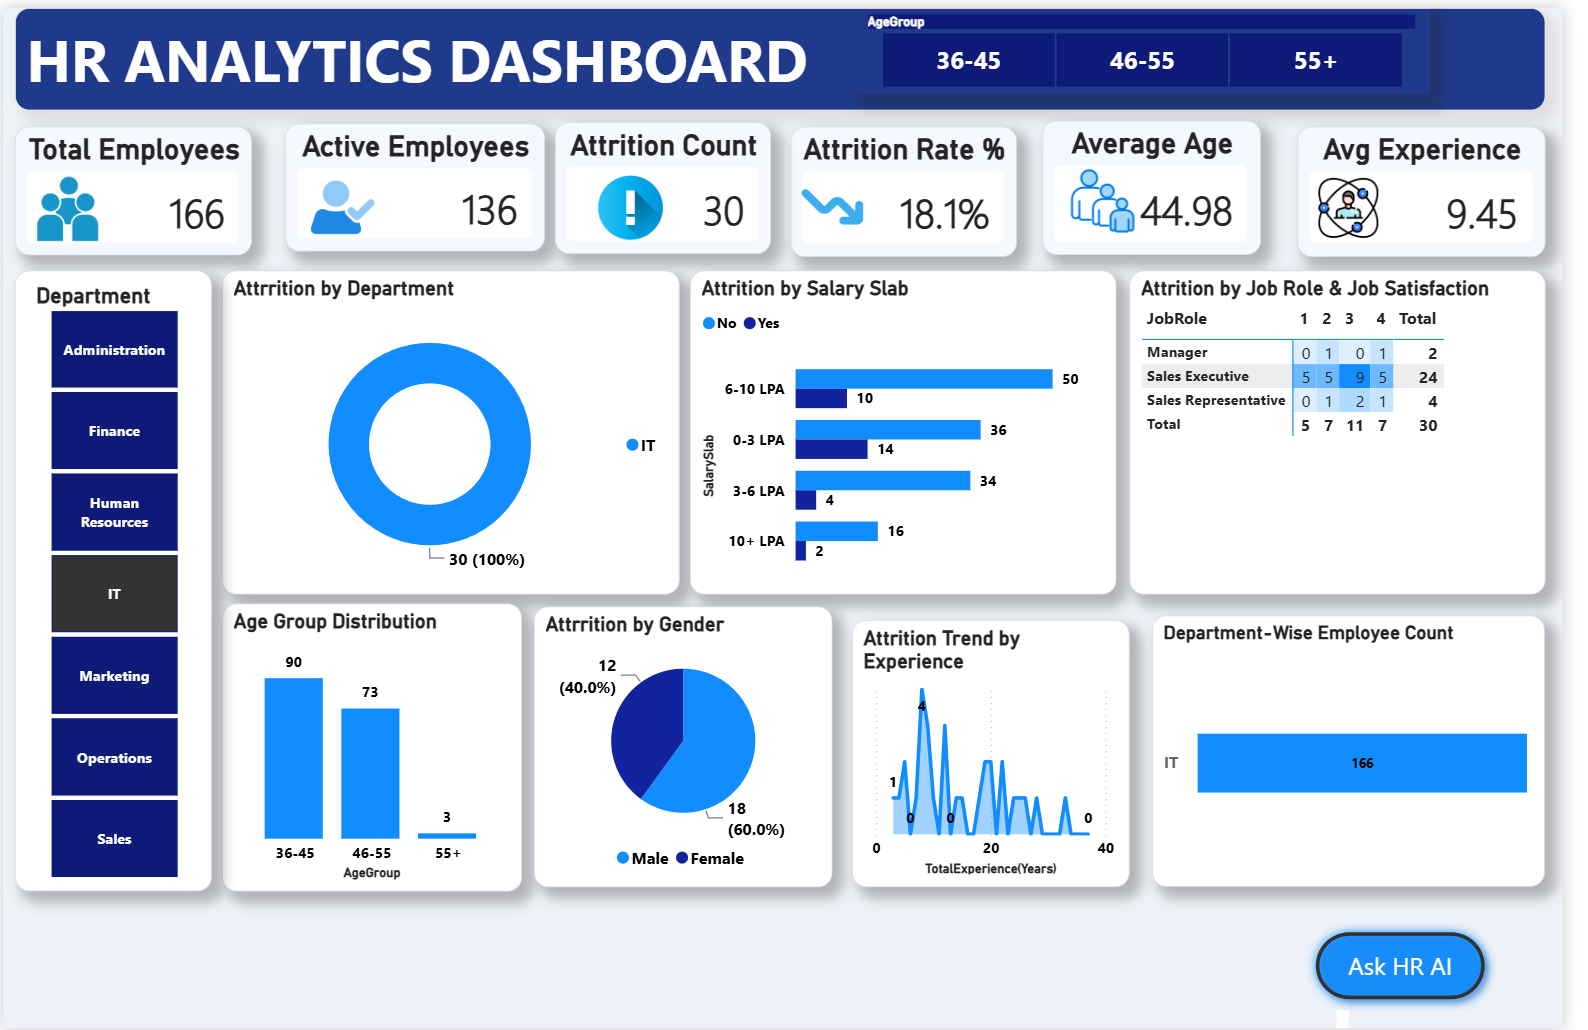

Layout of this report page (visuals, bound fields, positions):
{"tool":"powerbi","page":{"name":"Page 1","canvas":[1300,850],"ordinal":0},"visuals":[{"type":"textbox","box":[10,0,1275,85],"z":0},{"type":"cardVisual","title":"Total Employees","fields":{"Data":["CountNonNull(HR_Analytics-4 (1).EmpID)"]},"box":[10,98.8,197.5,107.5],"z":1000},{"type":"cardVisual","title":"Active Employees","fields":{"Data":["CountNonNull(HR_Analytics-4 (1).EmployeeCount)"]},"box":[235,96.7,216.7,106.7],"z":2000},{"type":"cardVisual","title":"Avg Experience","fields":{"Data":["Avg(HR_Analytics-4 (1).YearsatCompany)"]},"box":[1078.3,98.3,206.7,108.3],"z":3000},{"type":"cardVisual","title":"Average Age","fields":{"Data":["Avg(HR_Analytics-4 (1).Age)"]},"box":[866.7,93.3,181.7,111.7],"z":4000},{"type":"cardVisual","title":"Attrition Rate %","fields":{"Data":["HR_Analytics-4 (1).Attrition Rate %"]},"box":[656.7,98.3,188.3,108.3],"z":5000},{"type":"cardVisual","title":"Attrition Count","fields":{"Data":["Sum(HR_Analytics-4 (1).AttrritionCount)"]},"box":[460,95,180,110],"z":6000},{"type":"image","box":[0,128.6,108.6,77.1],"z":7000},{"type":"image","box":[234.3,134.3,98.6,64.3],"z":8000},{"type":"image","box":[481.7,133.3,83.3,65],"z":9000},{"type":"image","box":[647.5,133.8,87.5,63.8],"z":10000},{"type":"image","box":[873.3,128.3,85,63.3],"z":11000},{"type":"image","box":[1078.3,136.7,85,60],"z":12000},{"type":"donutChart","title":"Attrrition by Department","fields":{"Category":["HR_Analytics-4 (1).Department"],"Y":["Sum(HR_Analytics-4 (1).AttrritionCount)"]},"box":[182.5,218.8,381.2,270],"z":13000},{"type":"clusteredBarChart","title":"Attrition by Salary Slab","fields":{"Category":["HR_Analytics-4 (1).SalarySlab"],"Series":["HR_Analytics-4 (1).Attrition"],"Y":["CountNonNull(HR_Analytics-4 (1).EmpID)"]},"box":[572.5,218.8,355,270],"z":14000},{"type":"pivotTable","title":"Attrition by Job Role & Job Satisfaction","fields":{"Columns":["HR_Analytics-4 (1).JobSatisfaction"],"Rows":["HR_Analytics-4 (1).JobRole"],"Values":["Sum(HR_Analytics-4 (1).AttrritionCount)"]},"box":[938.3,218.3,346.7,270],"z":15000},{"type":"columnChart","title":"Age Group Distribution","fields":{"Category":["HR_Analytics-4 (1).AgeGroup"],"Y":["Sum(HR_Analytics-4 (1).EmployeeCount)"]},"box":[182.5,496.2,250,240],"z":16000},{"type":"pieChart","title":" Attrrition by Gender","fields":{"Category":["HR_Analytics-4 (1).Gender"],"Y":["Sum(HR_Analytics-4 (1).AttrritionCount)"]},"box":[442.5,498.8,248.8,233.8],"z":17000},{"type":"areaChart","title":"Attrition Trend by Experience","fields":{"Category":["HR_Analytics-4 (1).TotalExperience(Years)"],"Y":["Sum(HR_Analytics-4 (1).AttrritionCount)"]},"box":[707.5,510,231.2,222.5],"z":18000},{"type":"funnel","title":"Department-Wise Employee Count","fields":{"Category":["HR_Analytics-4 (1).Department"],"Y":["CountNonNull(HR_Analytics-4 (1).EmpID)"]},"box":[957.5,506.2,327.5,226.2],"z":19000},{"type":"slicer","fields":{"Values":["HR_Analytics-4 (1).Department"]},"box":[10,218.8,163.8,517.5],"z":20000},{"type":"slicer","fields":{"Values":["HR_Analytics-4 (1).AgeGroup"]},"box":[707.8,0,482.2,72.2],"z":21000},{"type":"actionButton","box":[1085,761.2,158.8,73.8],"z":22000},{"type":"htmlContent443BE3AD55E043BF878BED274D3A6855","fields":{"content":["HR_Analytics-4 (1).HR_AI_Chatbot1"]},"box":[1111.2,835,10,15],"z":22001}]}

Visuals, with their boxes in screenshot pixels (x1, y1, x2, y2), scaled from the page's 1300x850 canvas onto the 1588x1030 screenshot:
textbox: [12,0,1570,103]
"Total Employees" cardVisual: [12,120,253,250]
"Active Employees" cardVisual: [287,117,552,246]
"Avg Experience" cardVisual: [1317,119,1570,250]
"Average Age" cardVisual: [1059,113,1281,248]
"Attrition Rate %" cardVisual: [802,119,1032,250]
"Attrition Count" cardVisual: [562,115,782,248]
image: [0,156,133,249]
image: [286,163,407,241]
image: [588,162,690,240]
image: [791,162,898,239]
image: [1067,155,1171,232]
image: [1317,166,1421,238]
"Attrrition by Department" donutChart: [223,265,689,592]
"Attrition by Salary Slab" clusteredBarChart: [699,265,1133,592]
"Attrition by Job Role & Job Satisfaction" pivotTable: [1146,265,1570,592]
"Age Group Distribution" columnChart: [223,601,528,892]
" Attrrition by Gender" pieChart: [541,604,844,888]
"Attrition Trend by Experience" areaChart: [864,618,1147,888]
"Department-Wise Employee Count" funnel: [1170,613,1570,887]
slicer - HR_Analytics-4 (1).Department: [12,265,212,892]
slicer - HR_Analytics-4 (1).AgeGroup: [865,0,1454,87]
actionButton: [1325,922,1519,1012]
htmlContent443BE3AD55E043BF878BED274D3A6855 - HR_Analytics-4 (1).HR_AI_Chatbot1: [1357,1012,1370,1029]
